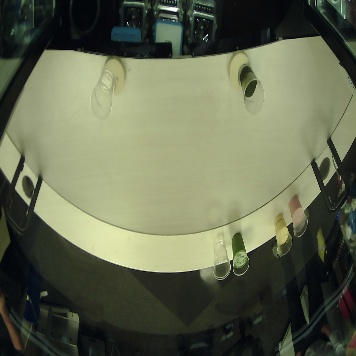empty_cup: (86, 67, 121, 123), (203, 232, 238, 288)
full_cup: (233, 62, 269, 117), (228, 228, 259, 278), (286, 192, 315, 235), (268, 211, 297, 254)
puck: (98, 53, 131, 99), (227, 48, 251, 92)
